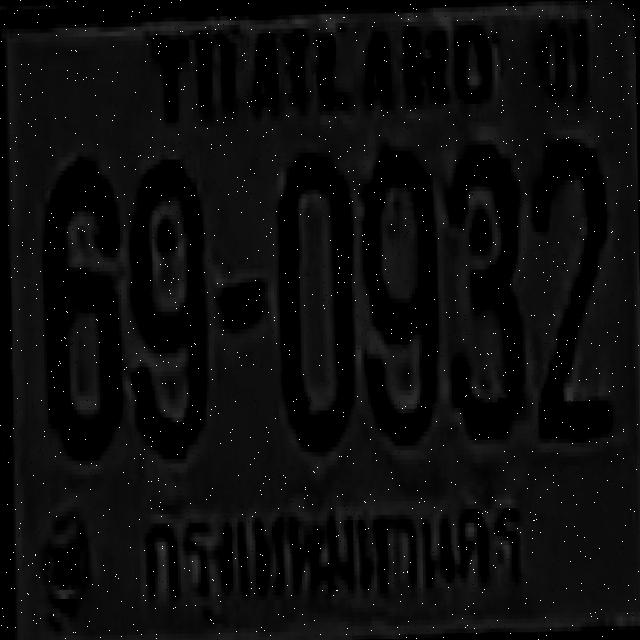0: (274, 149, 354, 445), (359, 143, 439, 439)
2: (530, 136, 610, 440)
3: (444, 139, 524, 435)
6: (40, 153, 120, 454)
9: (126, 152, 206, 452), (359, 143, 439, 439)
Bangkok: (132, 495, 538, 611)
